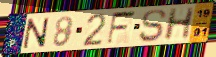2: (82, 12, 108, 48)
8: (51, 15, 75, 48)
F: (105, 9, 138, 46)
H: (162, 6, 197, 43)
N: (22, 17, 50, 51)
S: (138, 9, 167, 44)
